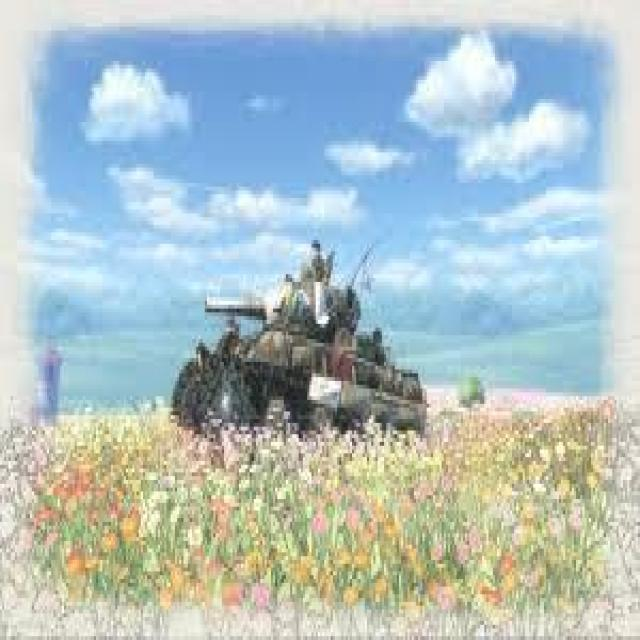MIL_MBT: (131, 135, 498, 562)
